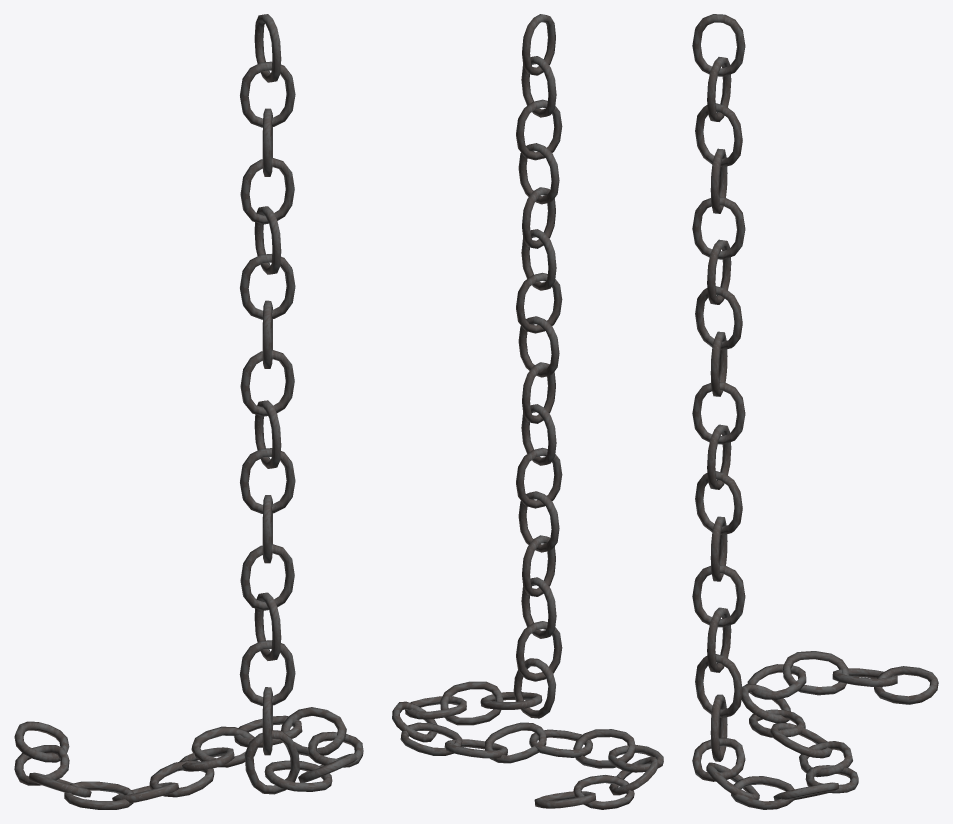
The model's file is Prop_ChainHangingGround.fbx.
3 views of the same model, side by side, from view 1: azimuth 30°, elevation 25°; view 2: azimuth 150°, elevation 25°; view 3: azimuth 270°, elevation 25° (orthographic). The views are drawn at different scales.
Visible parts, largest first — view 1: CDTMesh_ChainHangingGround; view 2: CDTMesh_ChainHangingGround; view 3: CDTMesh_ChainHangingGround.
Part boxes in pixels (x1=…): CDTMesh_ChainHangingGround: x1=14, y1=14, x2=363, y2=809; CDTMesh_ChainHangingGround: x1=392, y1=14, x2=663, y2=809; CDTMesh_ChainHangingGround: x1=692, y1=14, x2=938, y2=809.
Size of what is drawn, in the model's own units: 1.64 by 4.15 by 1.23.
1 material, 1 textured.
